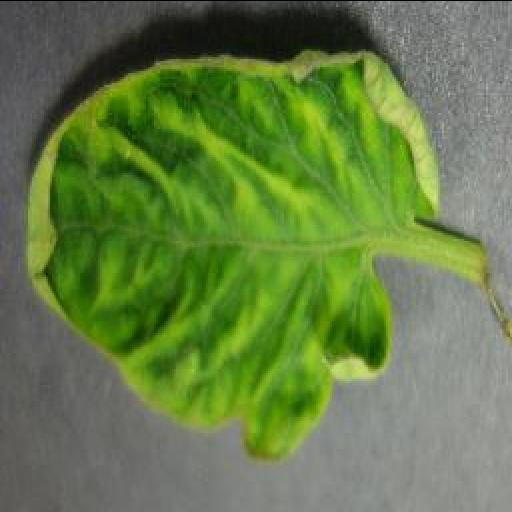disease_tomato: (26, 47, 438, 457)
